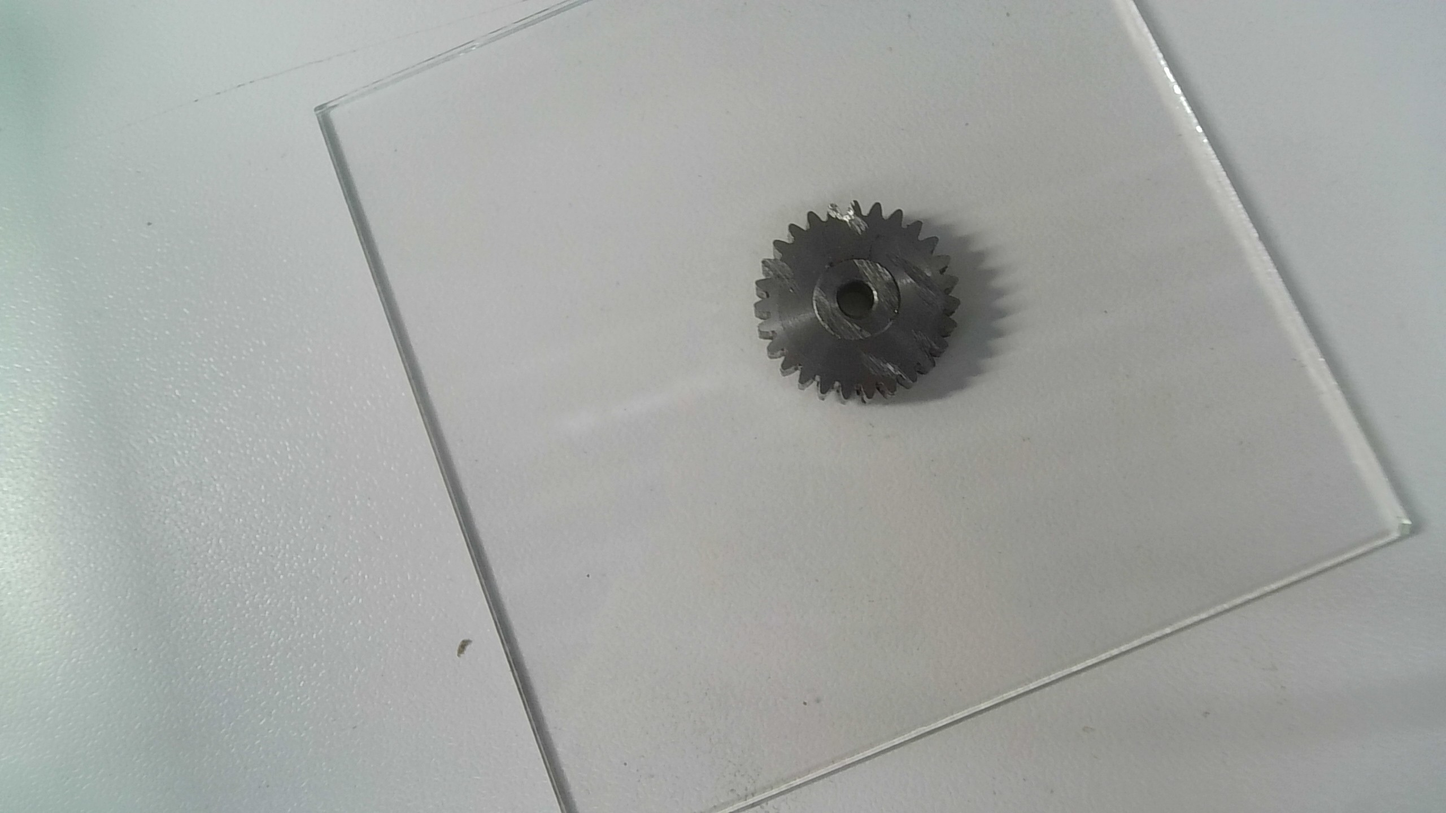gear: (747, 200, 961, 409)
